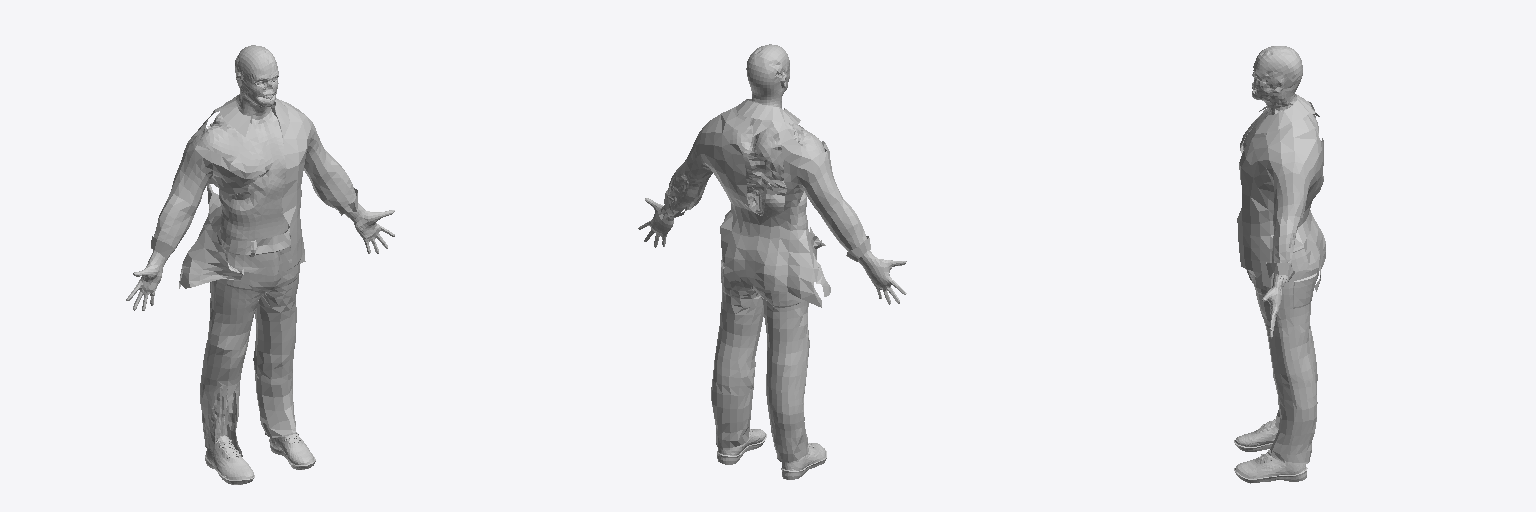
The model's file is zombi.obj.
3 views of the same model, side by side, from view 1: azimuth 30°, elevation 25°; view 2: azimuth 150°, elevation 25°; view 3: azimuth 270°, elevation 25° (orthographic).
Parts seen in each view (by area): view 1: body001; view 2: body001; view 3: body001.
Boxes of the visible parts, <box> form: body001: <box>126,45,394,484</box>; body001: <box>638,44,906,479</box>; body001: <box>1234,46,1325,483</box>.
Bounding box in the file's own units: 550 × 816 × 163.